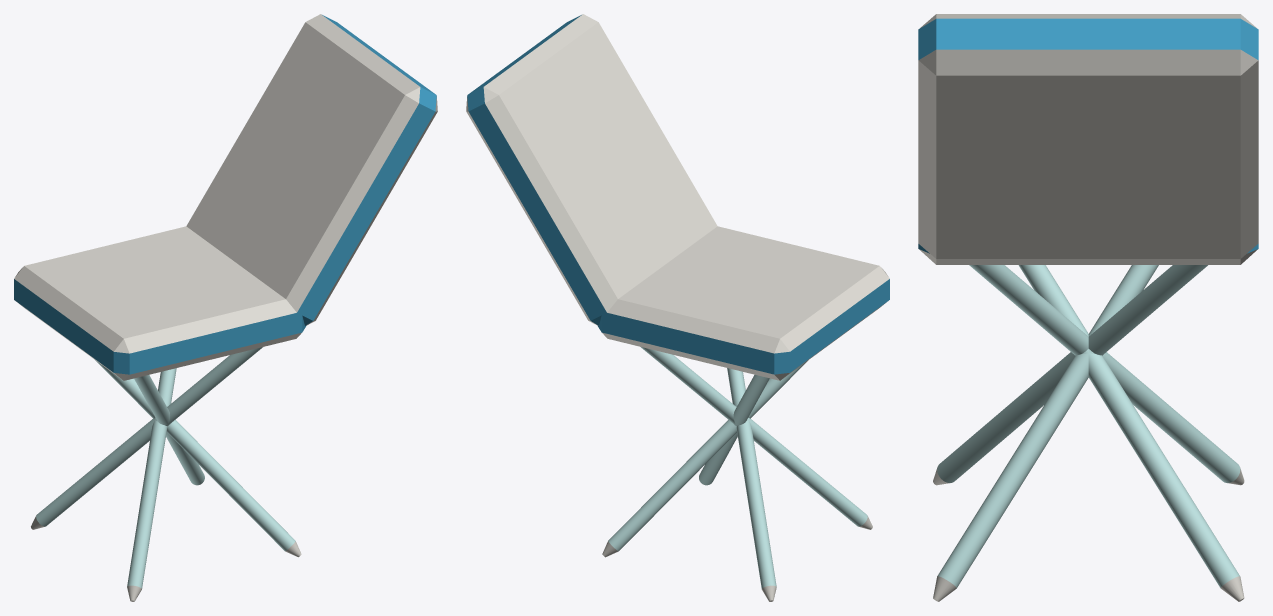
File: CHAIRFOLD.fbx
3 renders of one model, left to right at view 1: azimuth 30°, elevation 25°; view 2: azimuth 150°, elevation 25°; view 3: azimuth 270°, elevation 25°, orthographic. The views are drawn at different scales.
Visible parts, largest first — view 1: CHAIR; view 2: CHAIR; view 3: CHAIR.
Boxes of the visible parts, left/top/right/bottom form: CHAIR: left=14, top=14, right=437, bottom=601; CHAIR: left=466, top=14, right=889, bottom=601; CHAIR: left=918, top=14, right=1258, bottom=601.
Bounding box in the file's own units: 8.05 × 10.57 × 4.79.
